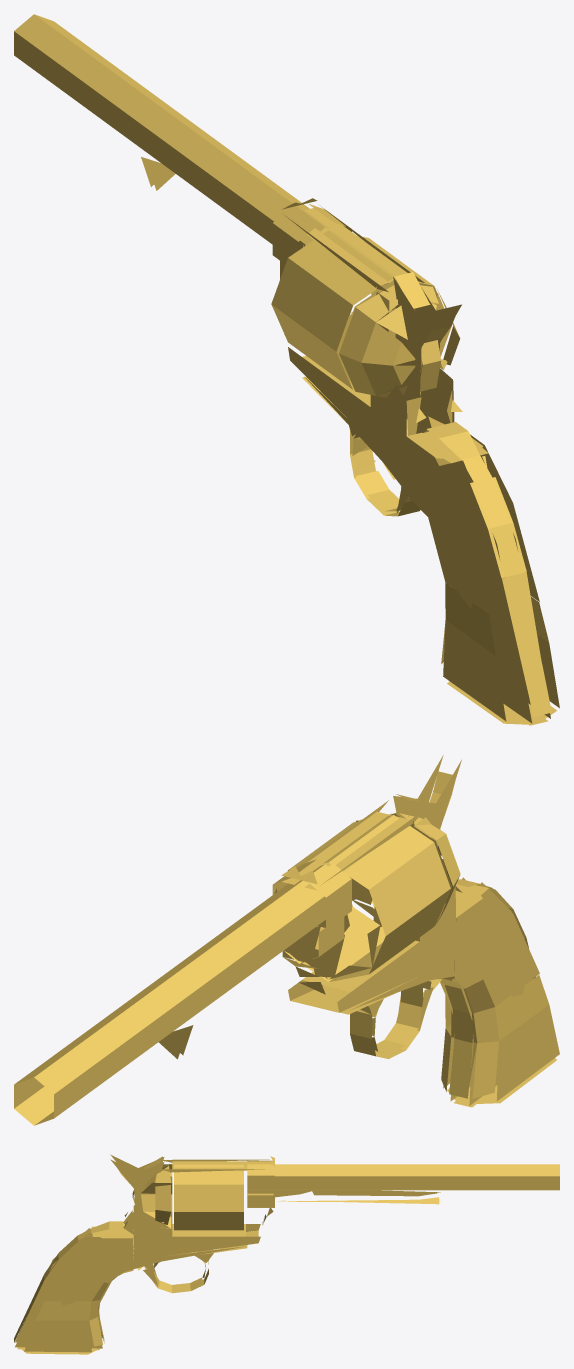
File: charm_mst_pistol_10.glb
The picture shows the model from 3 angles, top to bottom: view 1: azimuth 30°, elevation 25°; view 2: azimuth 150°, elevation 25°; view 3: azimuth 270°, elevation 25°; orthographic projection. The views are drawn at different scales.
Parts seen in each view (by area): view 1: p0_paint; view 2: p0_paint; view 3: p0_paint.
Boxes of the visible parts, x1,y1,x2,y2 form: p0_paint: [14, 14, 559, 725]; p0_paint: [14, 755, 559, 1125]; p0_paint: [14, 1154, 559, 1354].
Bounding box in the file's own units: 0.0416 × 0.1236 × 0.32.
